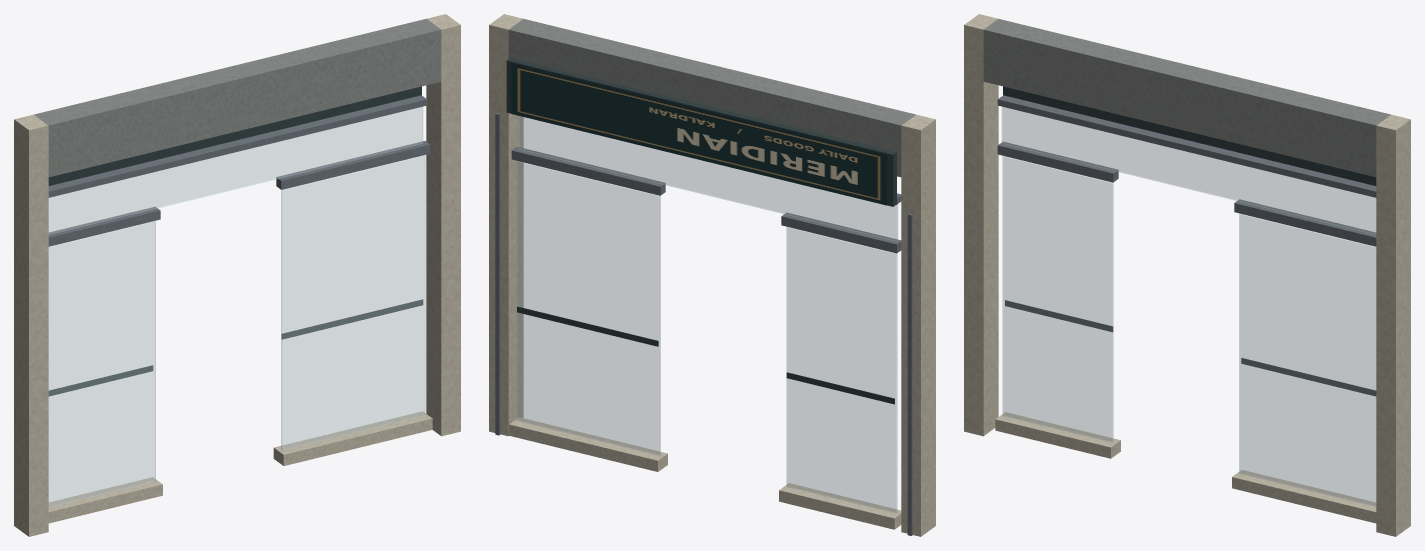
The model's file is Shop_Front_Bay.glb.
The picture shows the model from 3 angles, left to right: view 1: azimuth 30°, elevation 25°; view 2: azimuth 150°, elevation 25°; view 3: azimuth 330°, elevation 25°; orthographic projection.
Parts seen in each view (by area): view 1: VIS_low_iron_glass, VIS_limestone, VIS_concrete, VIS_steel, VIS_powdercoat; view 2: VIS_low_iron_glass, VIS_limestone, VIS_original_fictional_meridian_sign, VIS_concrete, VIS_steel, VIS_powdercoat; view 3: VIS_low_iron_glass, VIS_limestone, VIS_concrete, VIS_steel, VIS_powdercoat.
Boxes of the visible parts, x1,y1,x2,y2 form: VIS_low_iron_glass: (49, 107, 425, 506); VIS_limestone: (14, 14, 460, 536); VIS_concrete: (34, 18, 441, 177); VIS_steel: (48, 95, 430, 246); VIS_powdercoat: (48, 86, 423, 396); VIS_low_iron_glass: (516, 116, 897, 513); VIS_limestone: (489, 14, 935, 536); VIS_original_fictional_meridian_sign: (511, 63, 886, 205); VIS_concrete: (508, 18, 915, 177); VIS_steel: (495, 113, 912, 535); VIS_powdercoat: (506, 58, 896, 404); VIS_low_iron_glass: (1002, 107, 1375, 506); VIS_limestone: (964, 14, 1410, 536); VIS_concrete: (983, 18, 1390, 177); VIS_steel: (997, 95, 1376, 246); VIS_powdercoat: (1003, 86, 1376, 396).
Size of the model in its own units: 4 by 3.6 by 0.333.
Materials: 6 (5 with a texture image).
